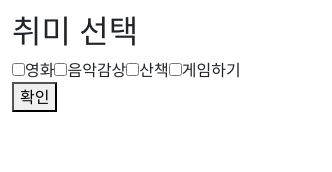
체크박스 테스트 › 버튼 클릭 시 체크된 취미 출력 여부
This screenshot has width=332, height=172.
Step 1. Click the checkbox labelled "영화" → {"x": 18, "y": 70}, box [12,63,25,76]
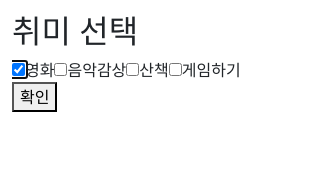
Step 2. Click the checkbox labelled "음악감상" → {"x": 61, "y": 70}, box [54,63,68,76]
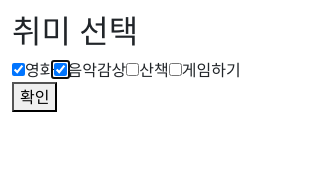
Step 3. Click the checkbox labelled "산책" → {"x": 133, "y": 70}, box [126,63,139,76]
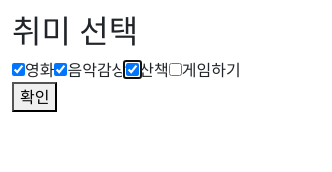
Step 4. Click the checkbox labelled "게임하기" → {"x": 175, "y": 70}, box [169,63,182,76]
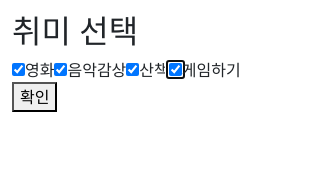
Step 5. Click the button "확인" → {"x": 35, "y": 97}, box [12,82,58,112]
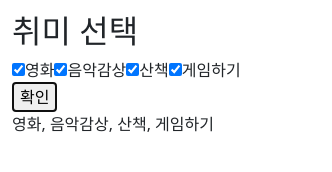
Check: the text "영화, 음악감상, 산책, 게임하기" is shown, box [12,113,214,135]
